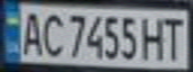4: (84, 11, 106, 60)
5: (118, 12, 142, 61), (103, 12, 124, 60)
7: (63, 10, 87, 58)
A: (18, 7, 45, 57)
C: (39, 9, 66, 58)
H: (139, 12, 169, 61)
T: (157, 14, 187, 61)
